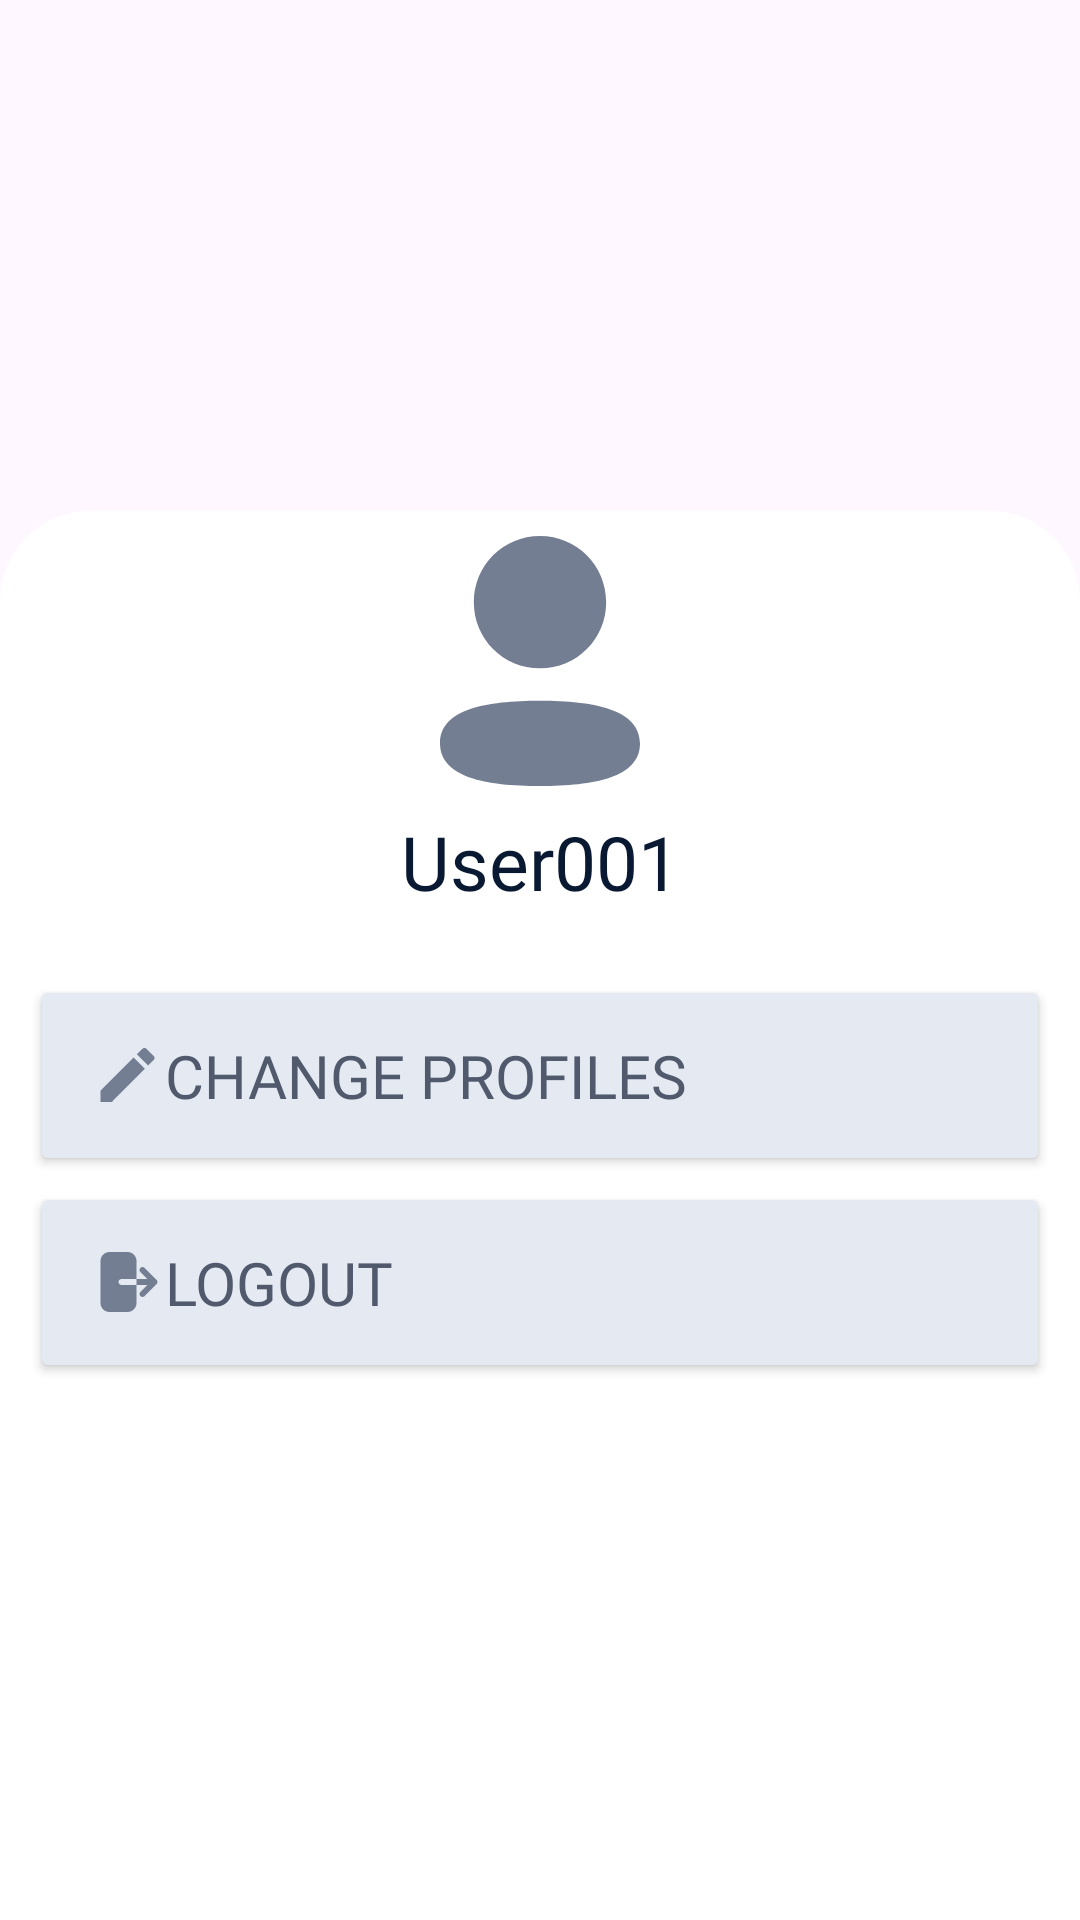

Icon bounding boxes for this 1080*1920 phone screenshot, format (left=x1, top=y1, right=x2, bottom=y2):
profile: (left=440, top=536, right=640, bottom=786)
